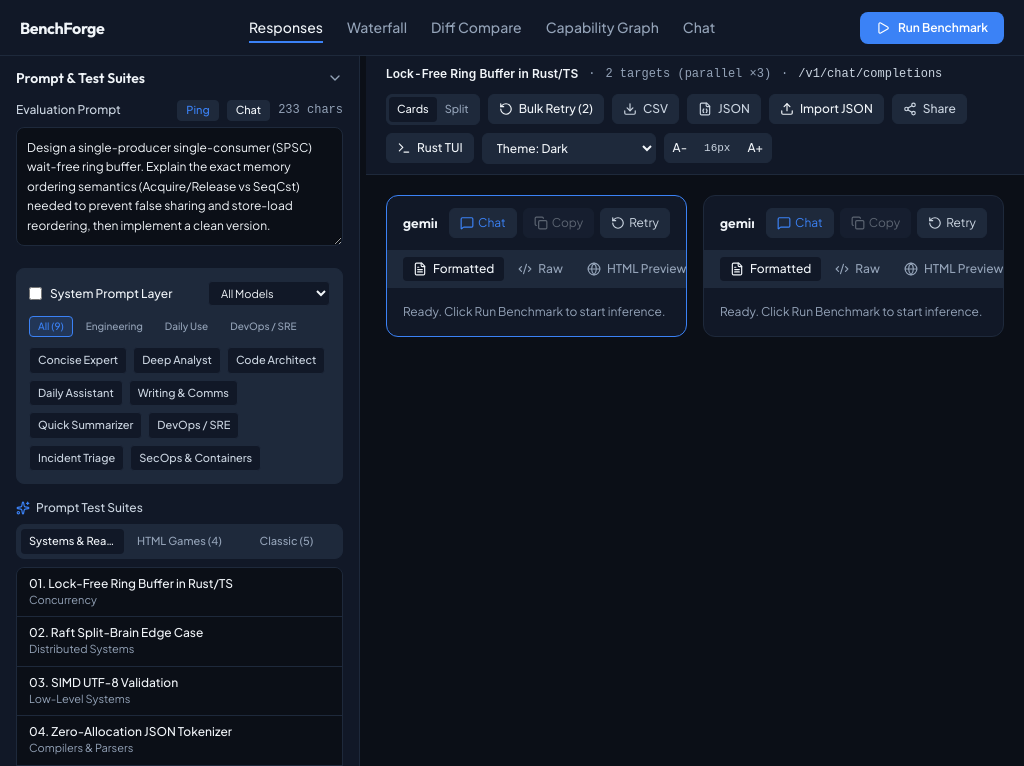
Test: Extended Coverage Suite (50+ Target) › switches Prompt Test Suites tabs in SidebarAccordion
The image size is (1024, 766).
Click the button "HTML Games (4)": (180, 541) [128,529,231,554]
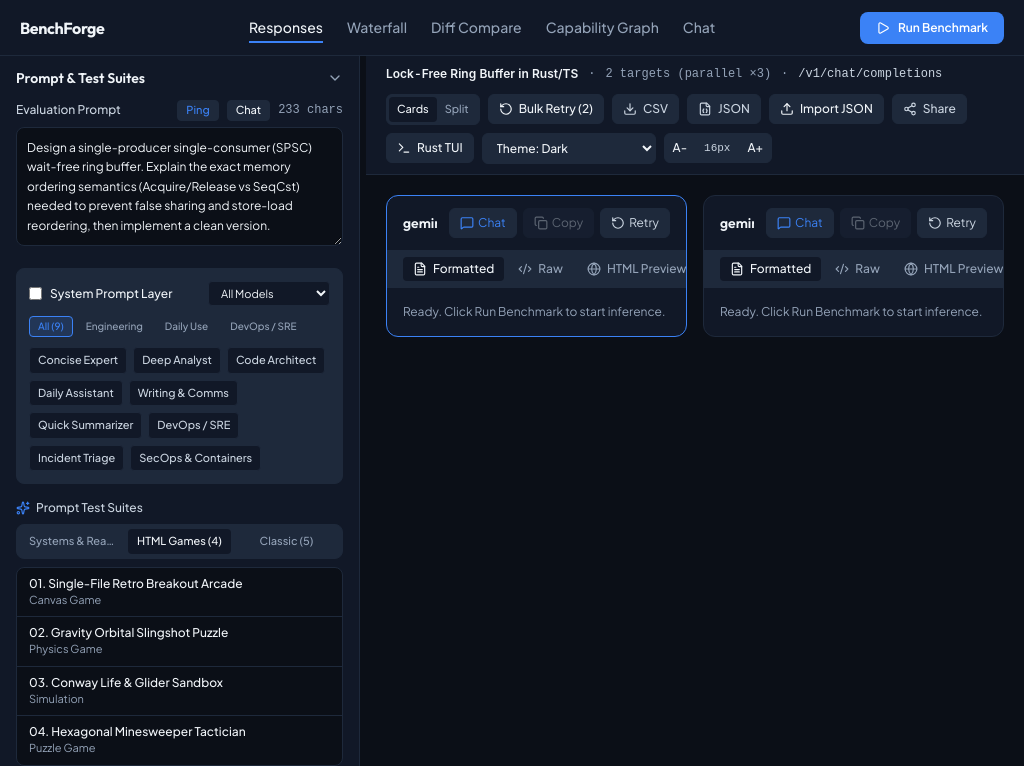
Expected: the text "01. Single-File Retro Breakout Arcade" is shown, [29,576,243,592]
Click the button "Classic (5)": (286, 541) [235,529,338,554]
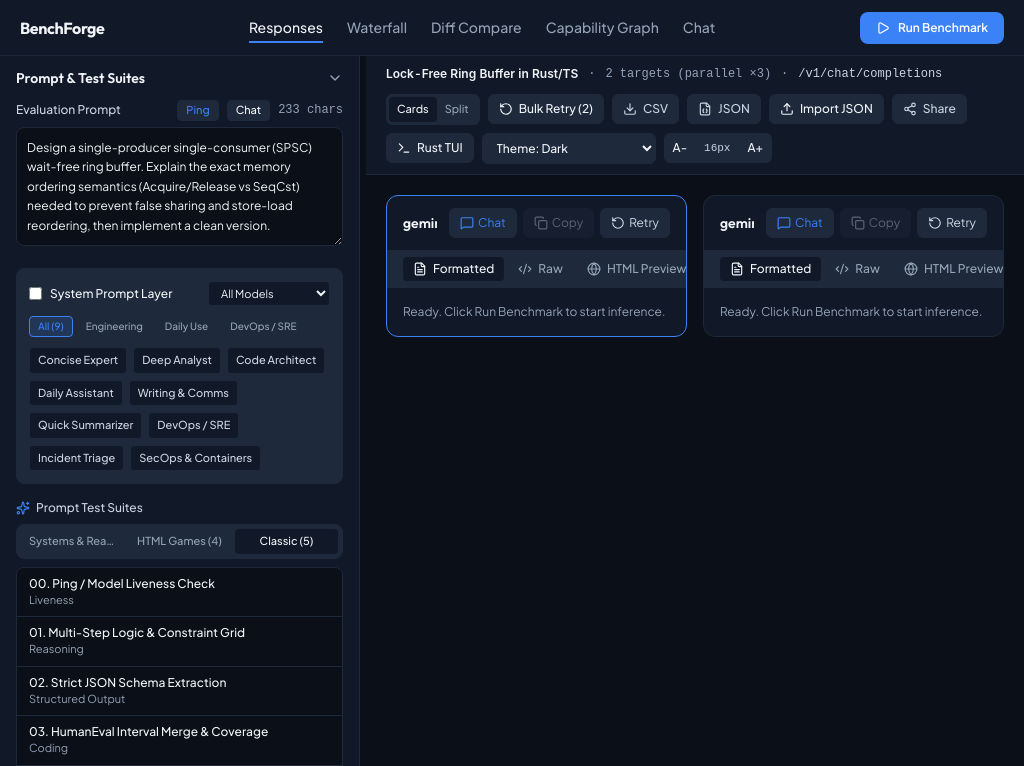
Expected: the text "01. Multi-Step Logic & Constraint Grid" is shown, [29,625,245,641]
